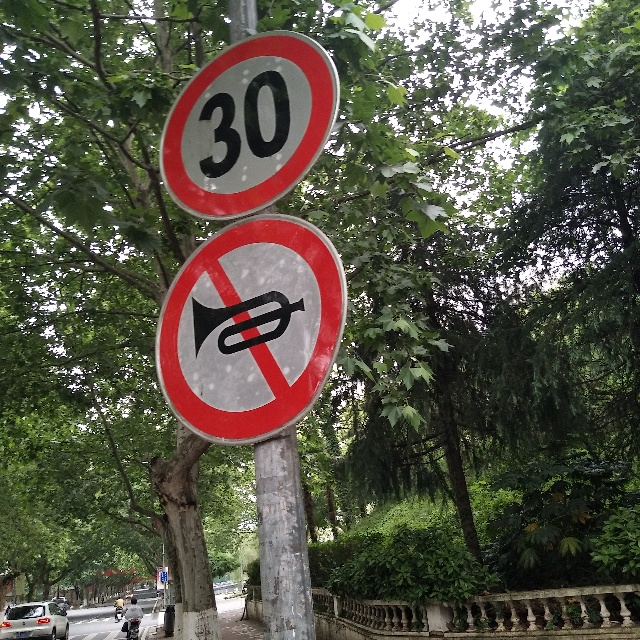nohonk: (153, 214, 349, 443)
